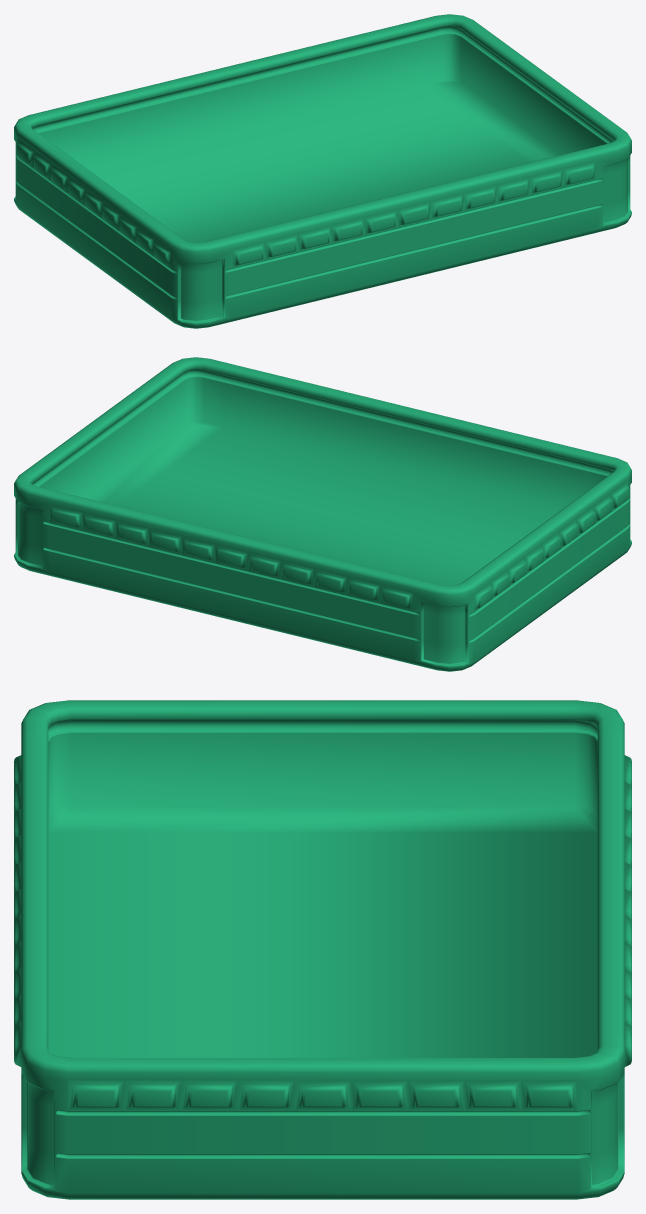
File: Box_Container.fbx
3 views of the same model, one above another, from view 1: azimuth 30°, elevation 25°; view 2: azimuth 150°, elevation 25°; view 3: azimuth 270°, elevation 25° (orthographic). The views are drawn at different scales.
Parts seen in each view (by area): view 1: Box_Container; view 2: Box_Container; view 3: Box_Container.
Part boxes in pixels (<box>): Box_Container: <box>14,14,631,328</box>; Box_Container: <box>14,357,631,671</box>; Box_Container: <box>14,700,631,1199</box>.
Bounding box in the file's own units: 3.49 × 0.5918 × 2.43.
